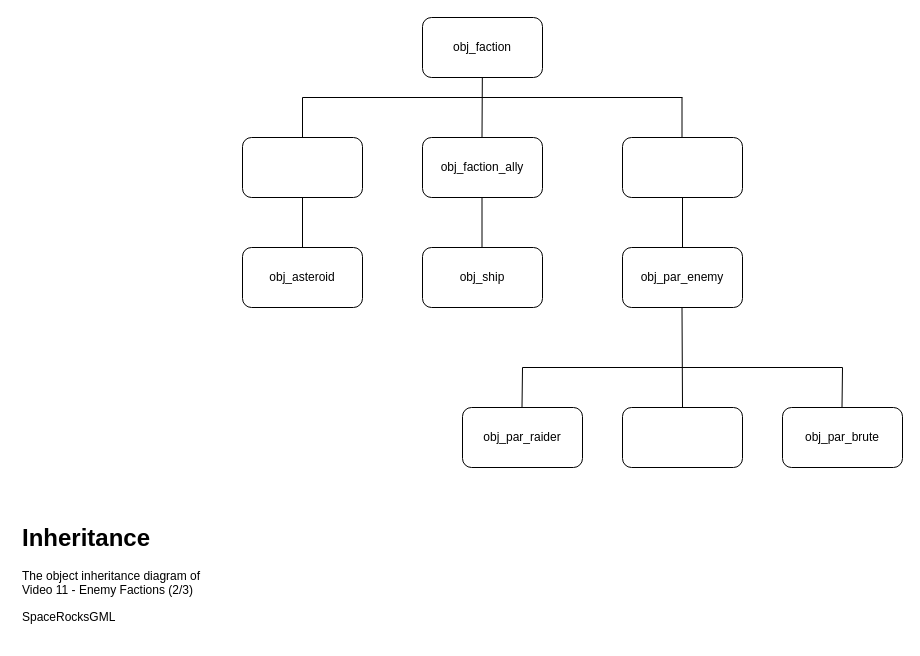
The diagram is 920 pixels wide and 656 high, and some of its shapes have lost their labels. The centre of each missing label's shape, as x and y in pixels:
"obj_faction_enemy" belongs at pixel 682 167.
"obj_faction_neutral" belongs at pixel 302 167.
"obj_par_hunter" belongs at pixel 682 437.
